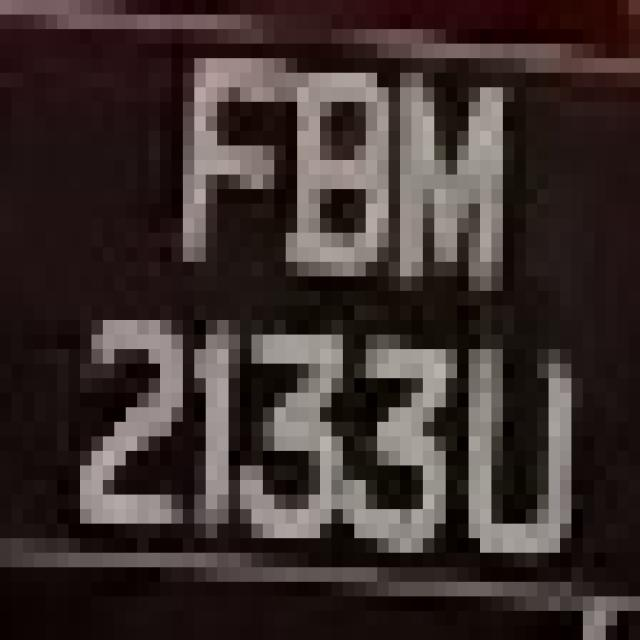1: (194, 306, 263, 568)
2: (57, 262, 194, 596)
3: (331, 305, 446, 582), (240, 276, 343, 538)
B: (263, 58, 388, 320)
F: (149, 44, 297, 306)
M: (377, 29, 514, 306)
U: (446, 305, 594, 611)
